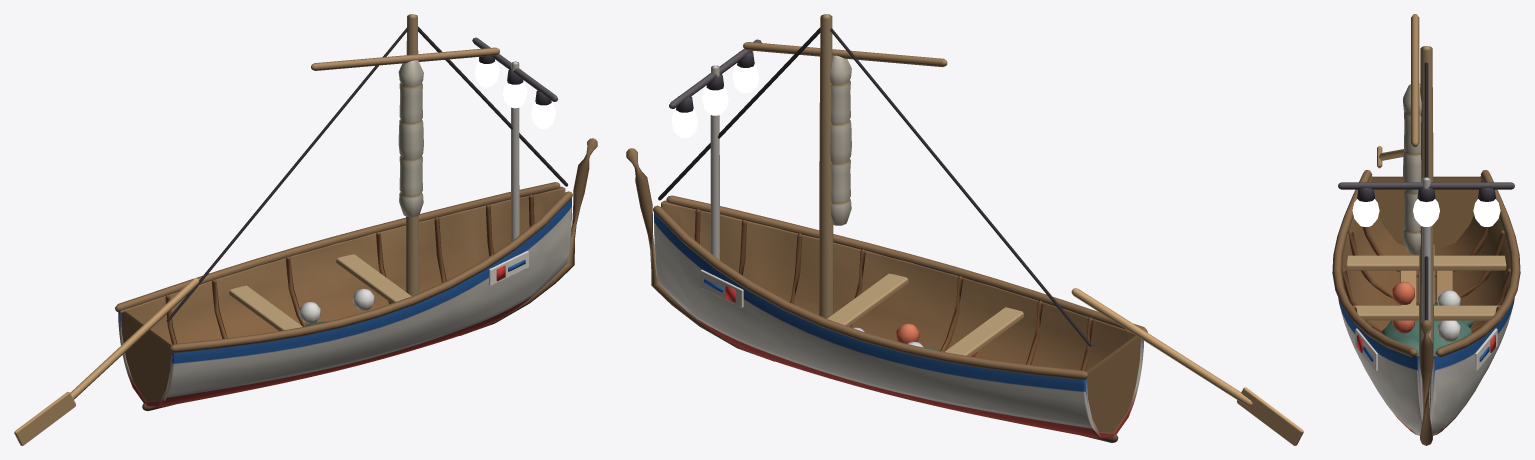
Rendered from fishing-boat.glb.
The picture shows the model from 3 angles, left to right: view 1: azimuth 30°, elevation 25°; view 2: azimuth 150°, elevation 25°; view 3: azimuth 270°, elevation 25°; orthographic projection. The views are drawn at different scales.
Parts seen in each view (by area): view 1: boat; view 2: boat; view 3: boat.
Part boxes in pixels (bbox=[...]): boat: bbox=[14, 14, 597, 445]; boat: bbox=[626, 14, 1303, 445]; boat: bbox=[1332, 14, 1520, 445].
Bounding box in the file's own units: 4.94 × 2.6 × 1.24.
